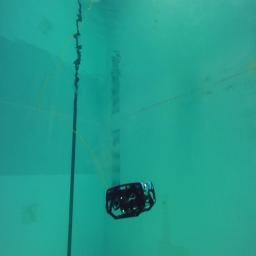Side: (105, 181, 156, 220)
